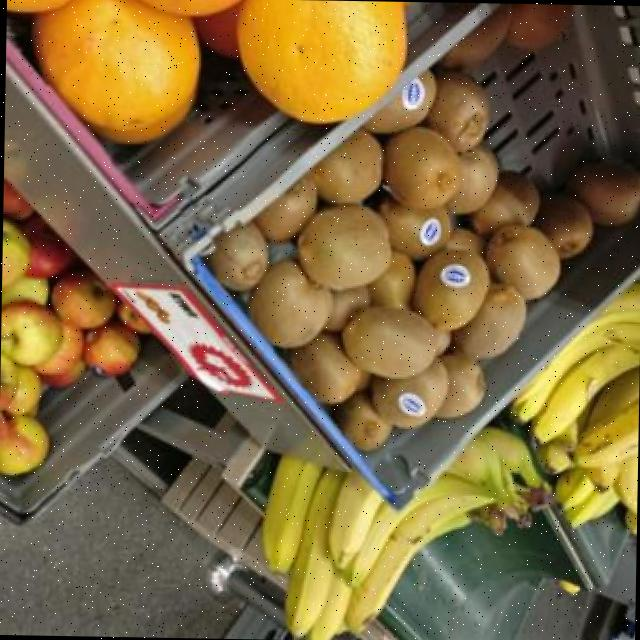kiwi: (440, 3, 572, 65), (296, 206, 388, 290), (248, 259, 332, 347), (341, 306, 436, 379), (382, 127, 460, 209), (412, 250, 488, 327), (484, 226, 558, 299), (452, 283, 523, 358), (371, 358, 447, 427), (287, 333, 360, 404), (311, 129, 381, 203), (425, 73, 489, 150), (439, 3, 511, 68), (567, 163, 640, 225), (364, 71, 434, 134), (378, 197, 449, 259), (470, 173, 537, 237), (254, 176, 316, 242), (207, 222, 266, 290), (534, 194, 593, 259), (446, 146, 498, 214), (334, 392, 391, 451), (435, 356, 483, 417), (367, 251, 412, 309), (323, 286, 369, 330), (444, 227, 484, 255), (434, 331, 450, 356)
